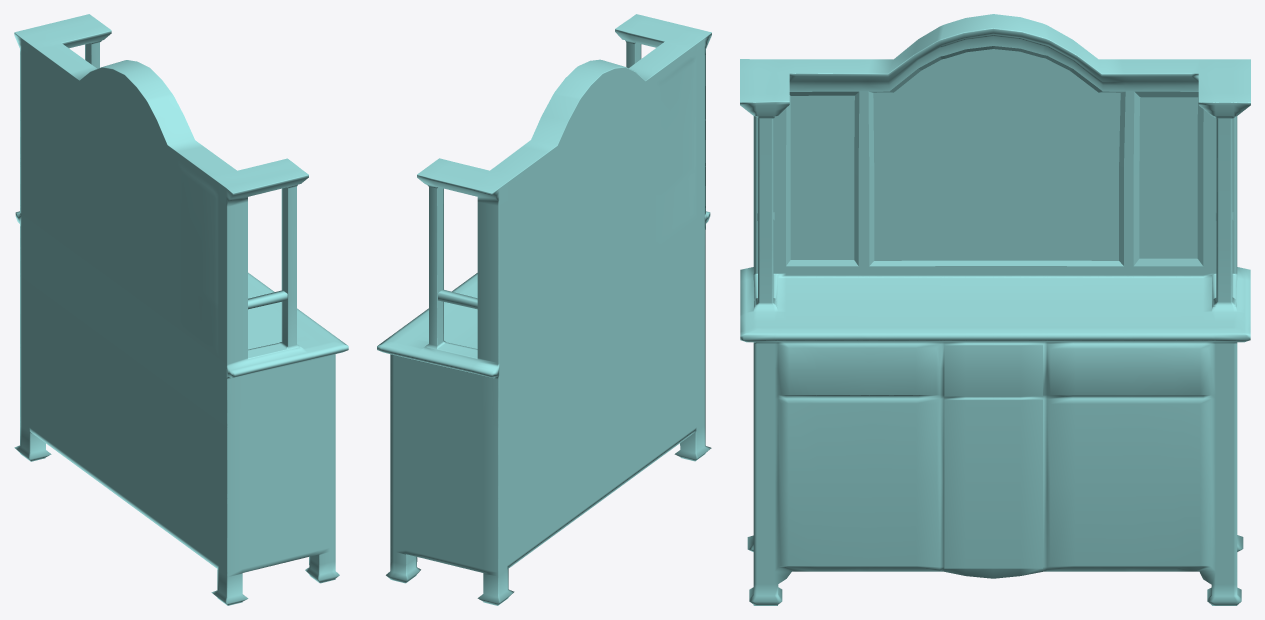
The model's file is FYP_asset_diningRoom_sideboardCabinet.fbx.
The picture shows the model from 3 angles, left to right: view 1: azimuth 30°, elevation 25°; view 2: azimuth 150°, elevation 25°; view 3: azimuth 270°, elevation 25°; orthographic projection. The views are drawn at different scales.
Parts seen in each view (by area): view 1: sideboardCabinet_OBJ; view 2: sideboardCabinet_OBJ; view 3: sideboardCabinet_OBJ.
Boxes of the visible parts, <box> form: sideboardCabinet_OBJ: <box>14,14,348,605</box>; sideboardCabinet_OBJ: <box>377,14,711,605</box>; sideboardCabinet_OBJ: <box>740,14,1250,605</box>.
Size of the model in its own units: 23.11 by 85.03 by 74.06.
